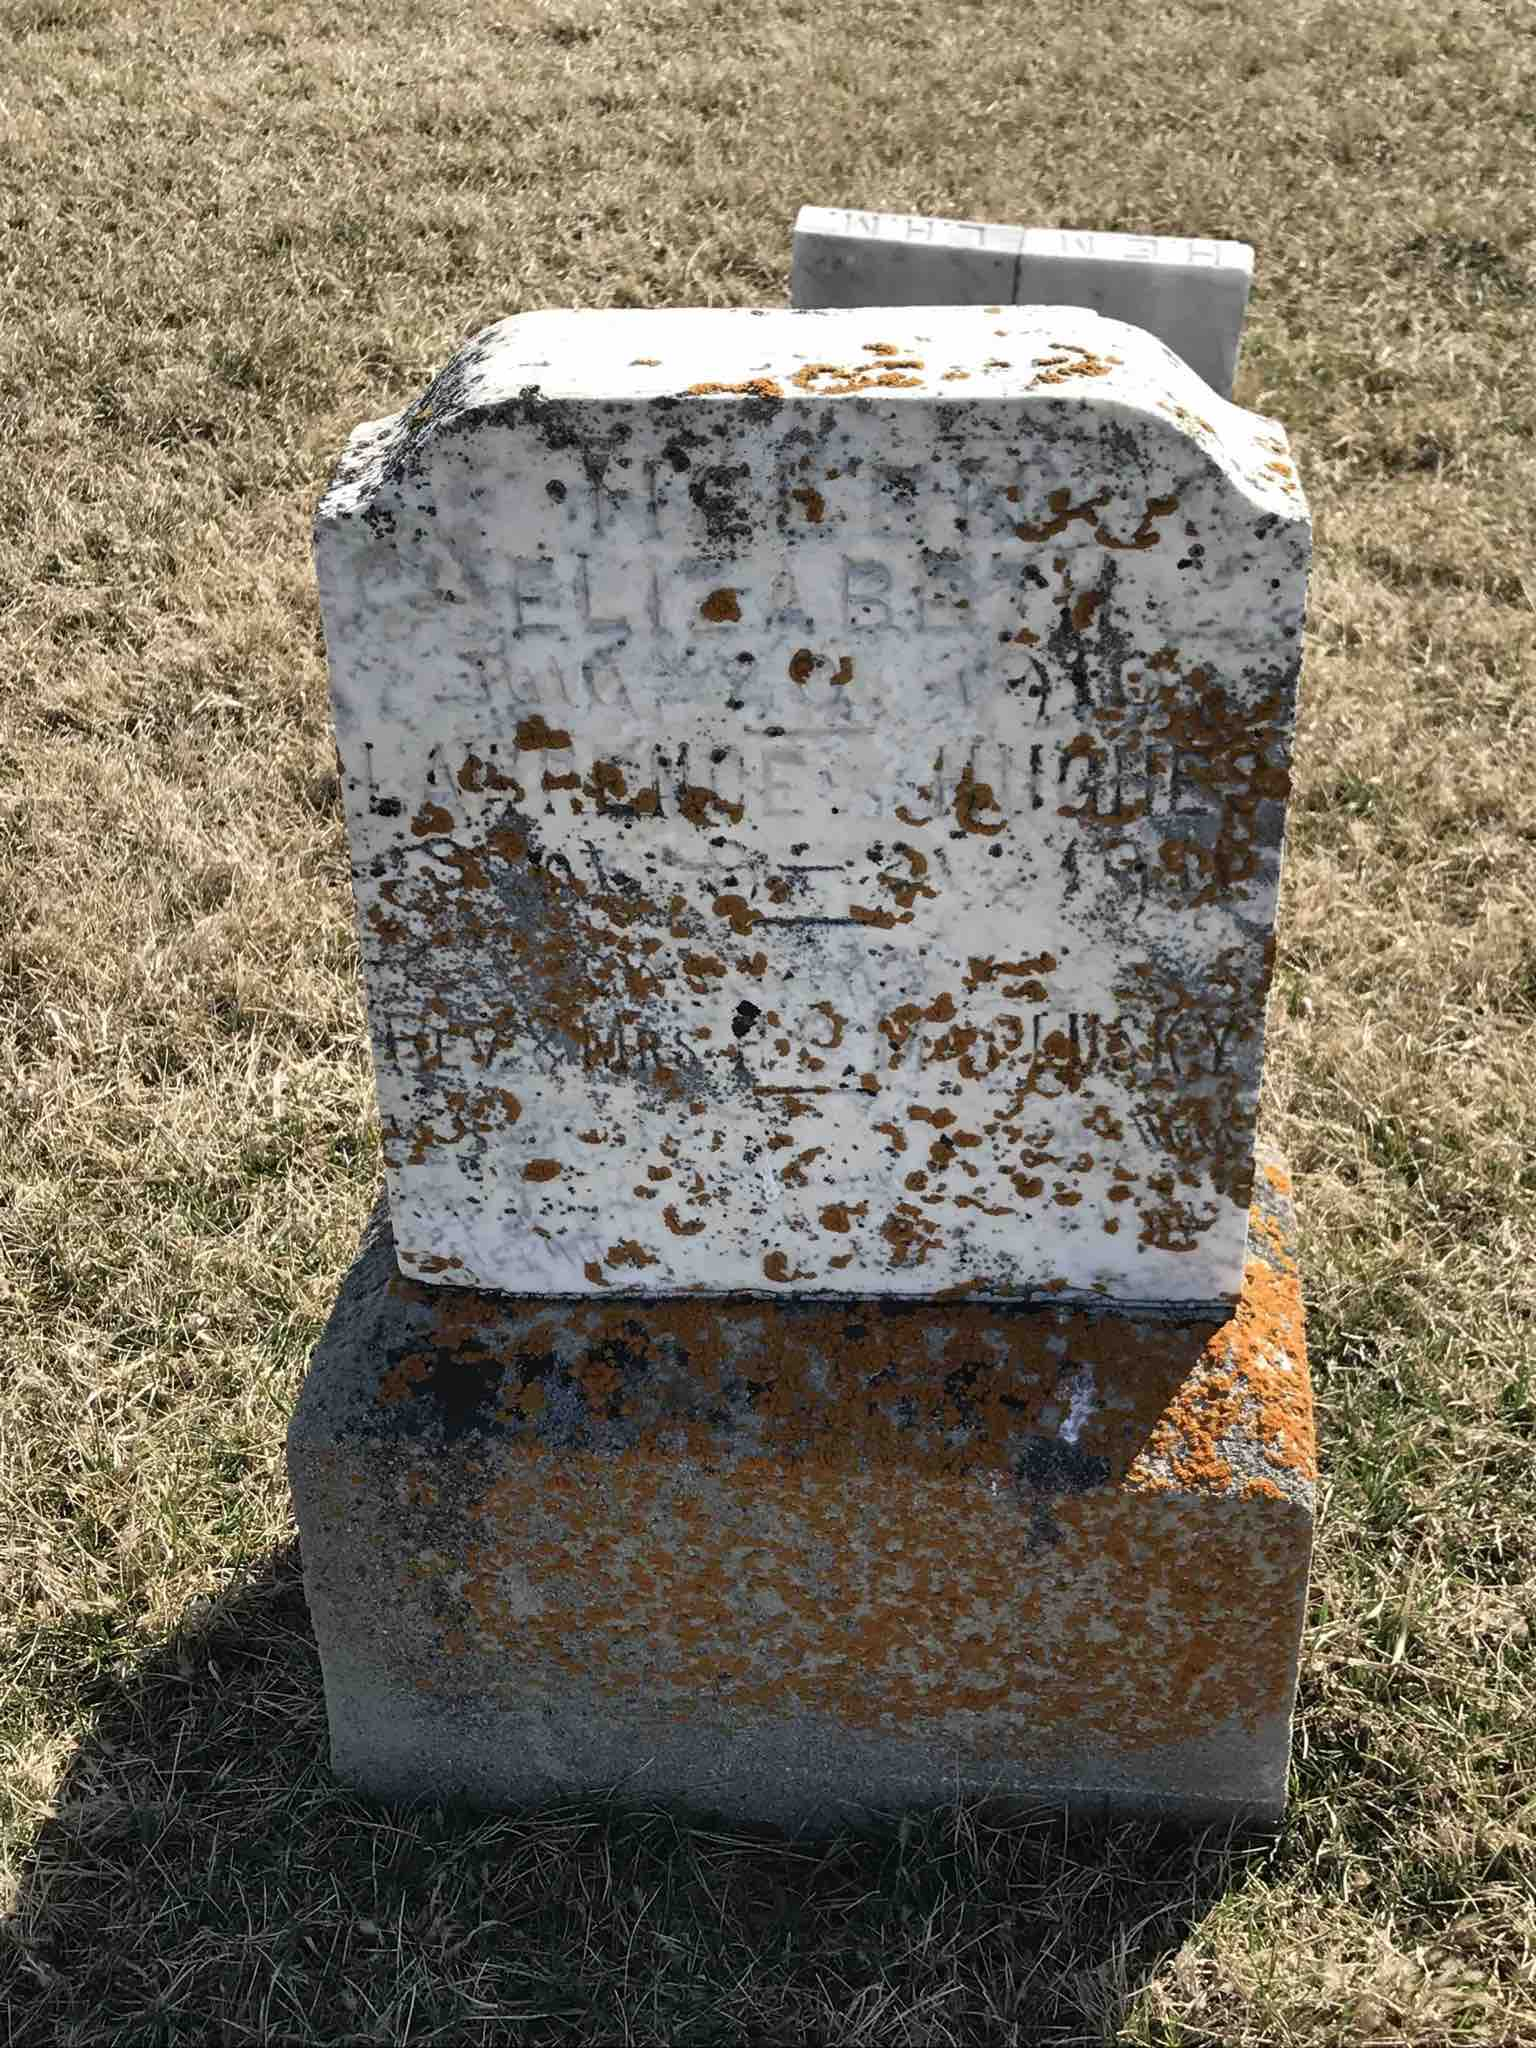upright: (290, 293, 1310, 1809)
